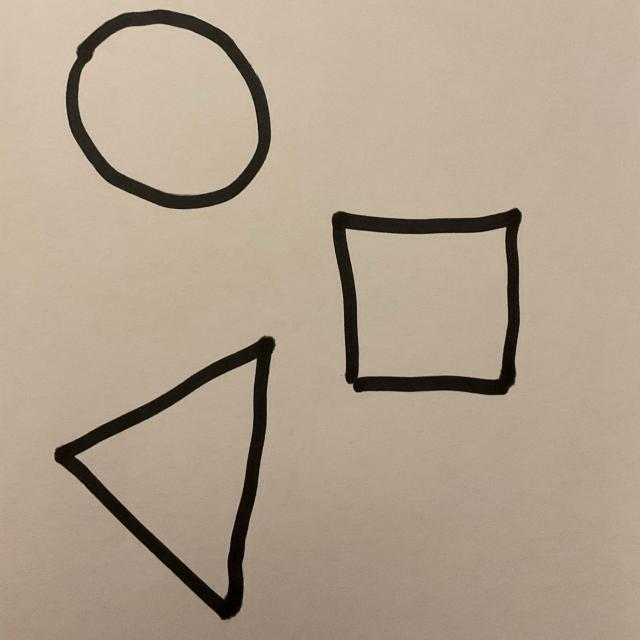Dreieck: (53, 337, 275, 622)
Kreis: (63, 10, 271, 214)
Quadrat: (331, 210, 523, 398)
